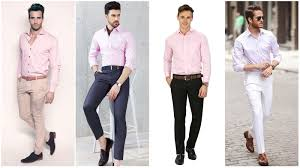F_belt: (169, 72, 207, 83), (99, 63, 130, 76), (17, 73, 50, 84)
F_dress pants: (81, 75, 136, 164), (170, 79, 205, 156)
